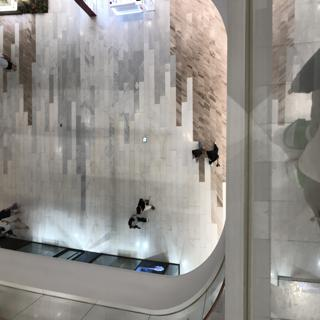person: (131, 192, 161, 216), (124, 216, 152, 240), (206, 141, 225, 174)
